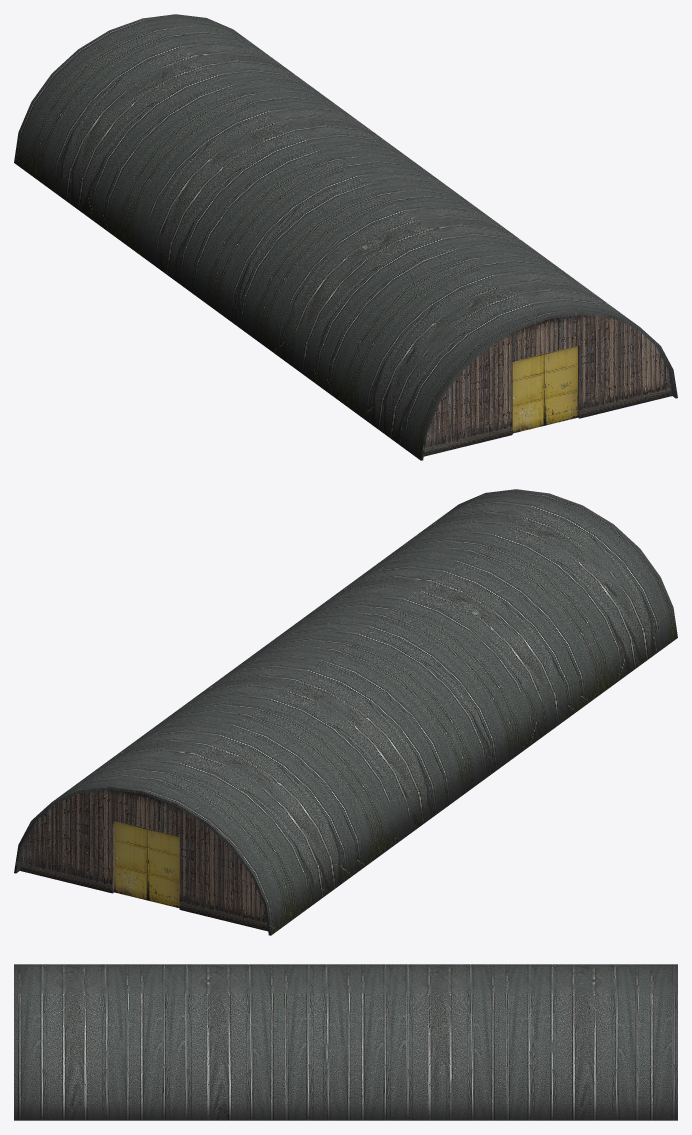
Rendered from Angar2.fbx.
3 renders of one model, top to bottom at view 1: azimuth 30°, elevation 25°; view 2: azimuth 150°, elevation 25°; view 3: azimuth 270°, elevation 25°, orthographic. The views are drawn at different scales.
Parts seen in each view (by area): view 1: Cylinder001; view 2: Cylinder001; view 3: Cylinder001.
Part boxes in pixels (left/top/right/bottom): Cylinder001: left=14, top=14, right=677, bottom=460; Cylinder001: left=14, top=489, right=677, bottom=935; Cylinder001: left=14, top=964, right=677, bottom=1120.
Bounding box in the file's own units: 14.58 × 6.13 × 40.
1 material, 1 textured.
